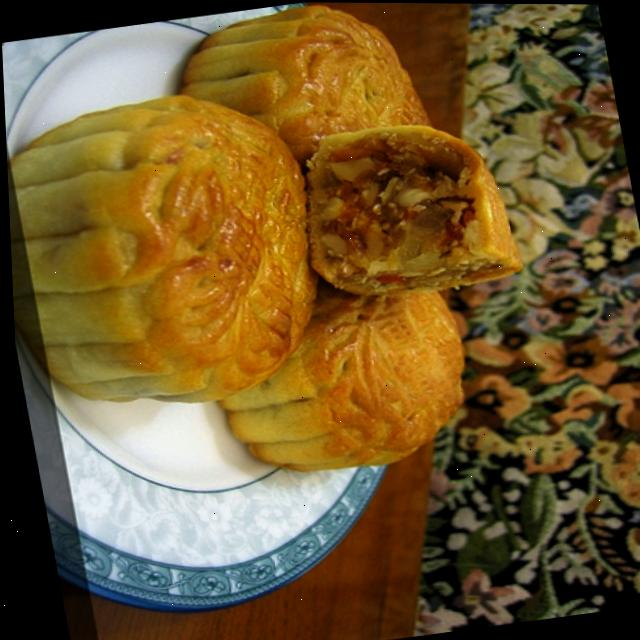蛋糕甜品: (0, 0, 579, 547)
